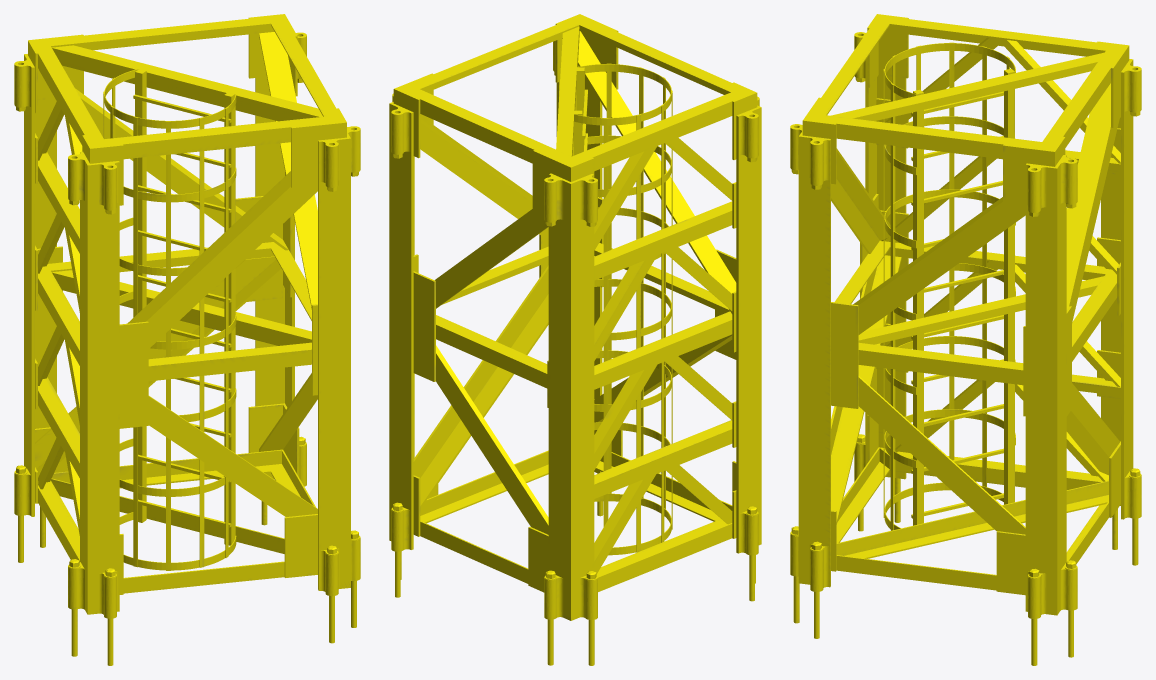
The model's file is Estrutura.glb.
The picture shows the model from 3 angles, left to right: view 1: azimuth 30°, elevation 25°; view 2: azimuth 150°, elevation 25°; view 3: azimuth 270°, elevation 25°; orthographic projection. The views are drawn at different scales.
Visible parts, largest first — view 1: node_id3; view 2: node_id3; view 3: node_id3.
Boxes of the visible parts, x1=… form: node_id3: x1=14, y1=14, x2=360, y2=665; node_id3: x1=389, y1=14, x2=761, y2=665; node_id3: x1=790, y1=14, x2=1141, y2=665.
Bounding box in the file's own units: 0.3197 × 0.512 × 0.3197.
1 material, 1 textured.
